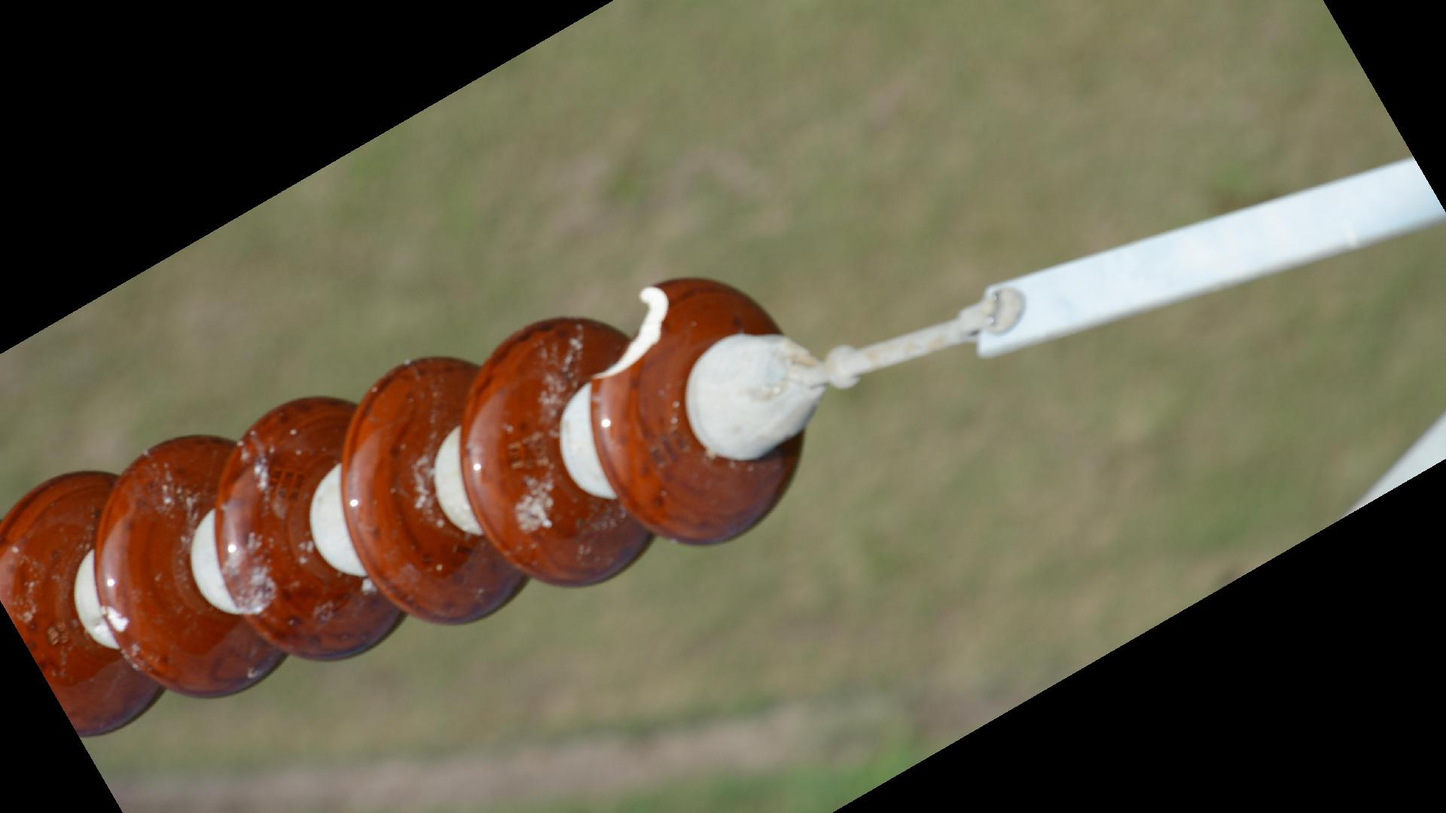insulator: (1, 269, 811, 747)
insulator_breakage: (578, 276, 680, 399)
